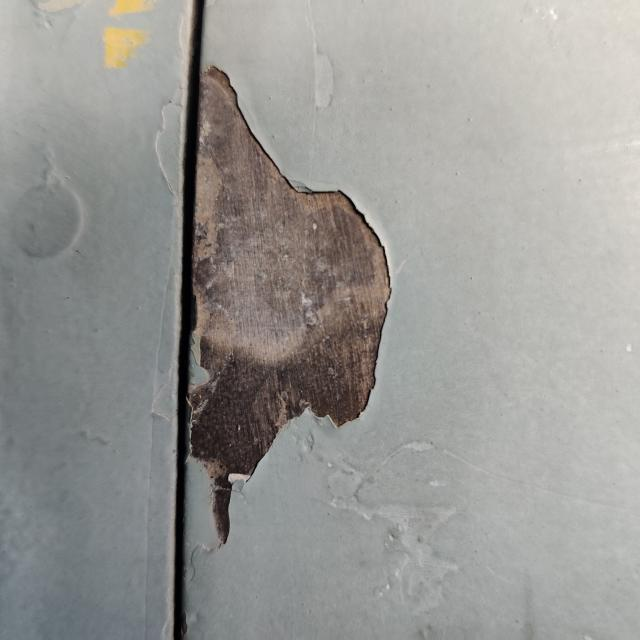Paint-off: (176, 66, 392, 547)
